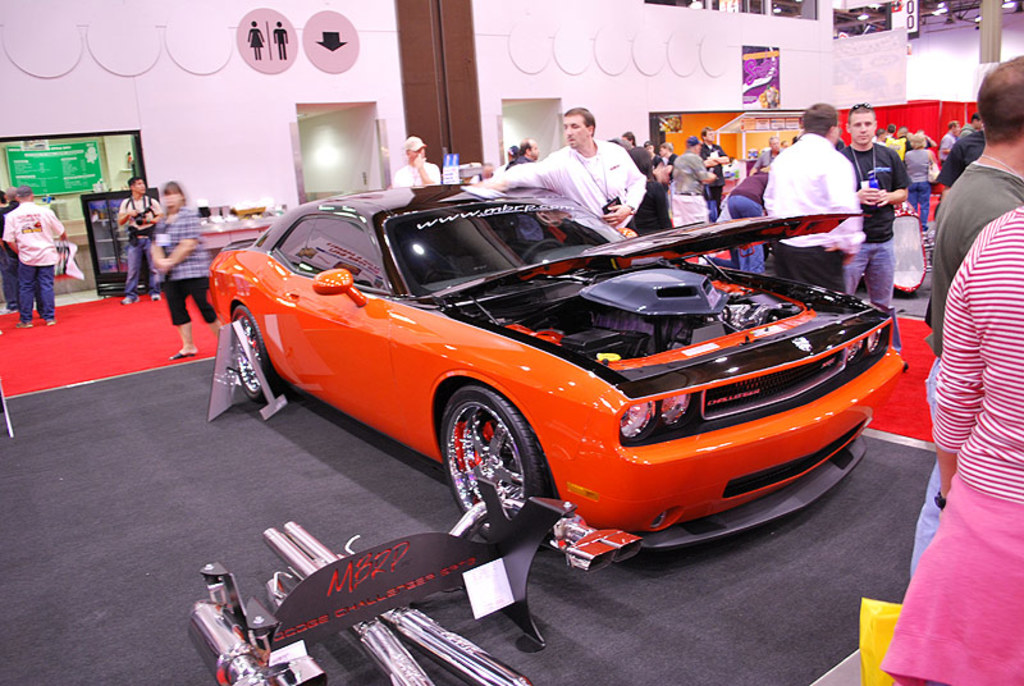Person: (473, 53, 1024, 686), (149, 181, 222, 362), (8, 187, 20, 311), (0, 187, 10, 312), (245, 17, 265, 59), (273, 16, 288, 59)
